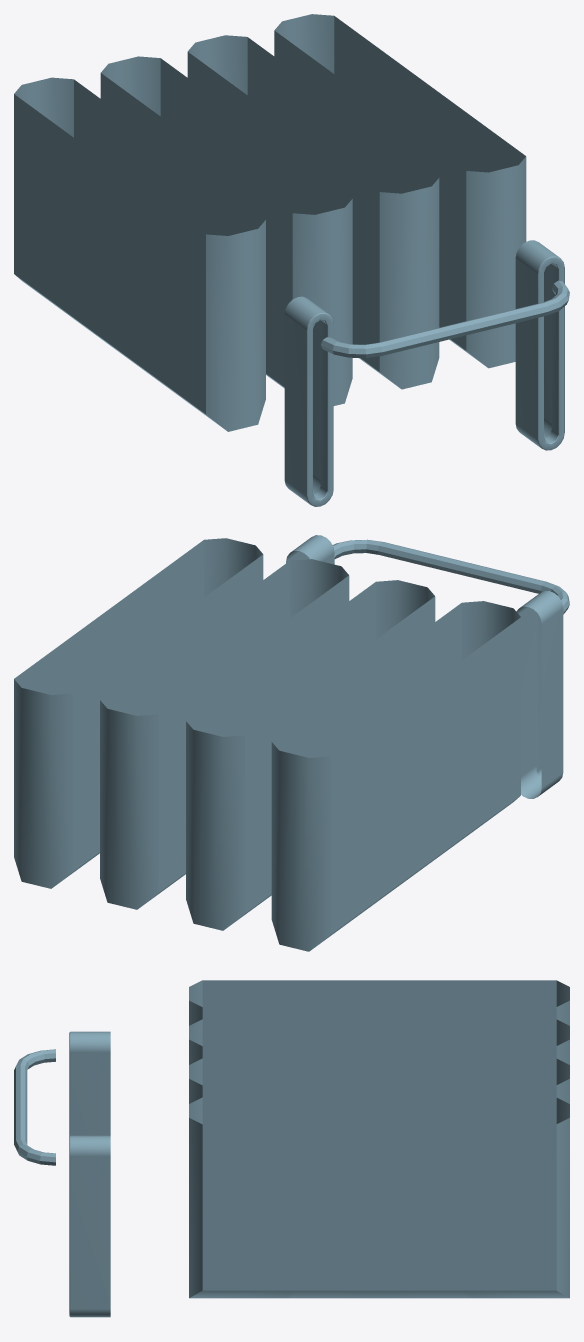
Rendered from Toaster_24_3.obj.
3 views of the same model, one above another, from view 1: azimuth 30°, elevation 25°; view 2: azimuth 150°, elevation 25°; view 3: azimuth 270°, elevation 25° (orthographic). The views are drawn at different scales.
Bounding box in the file's own units: 0.1877 × 0.167 × 0.3058.
